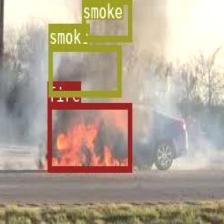fire: (47, 103, 131, 171)
smoke: (48, 44, 120, 96), (81, 0, 131, 41)
